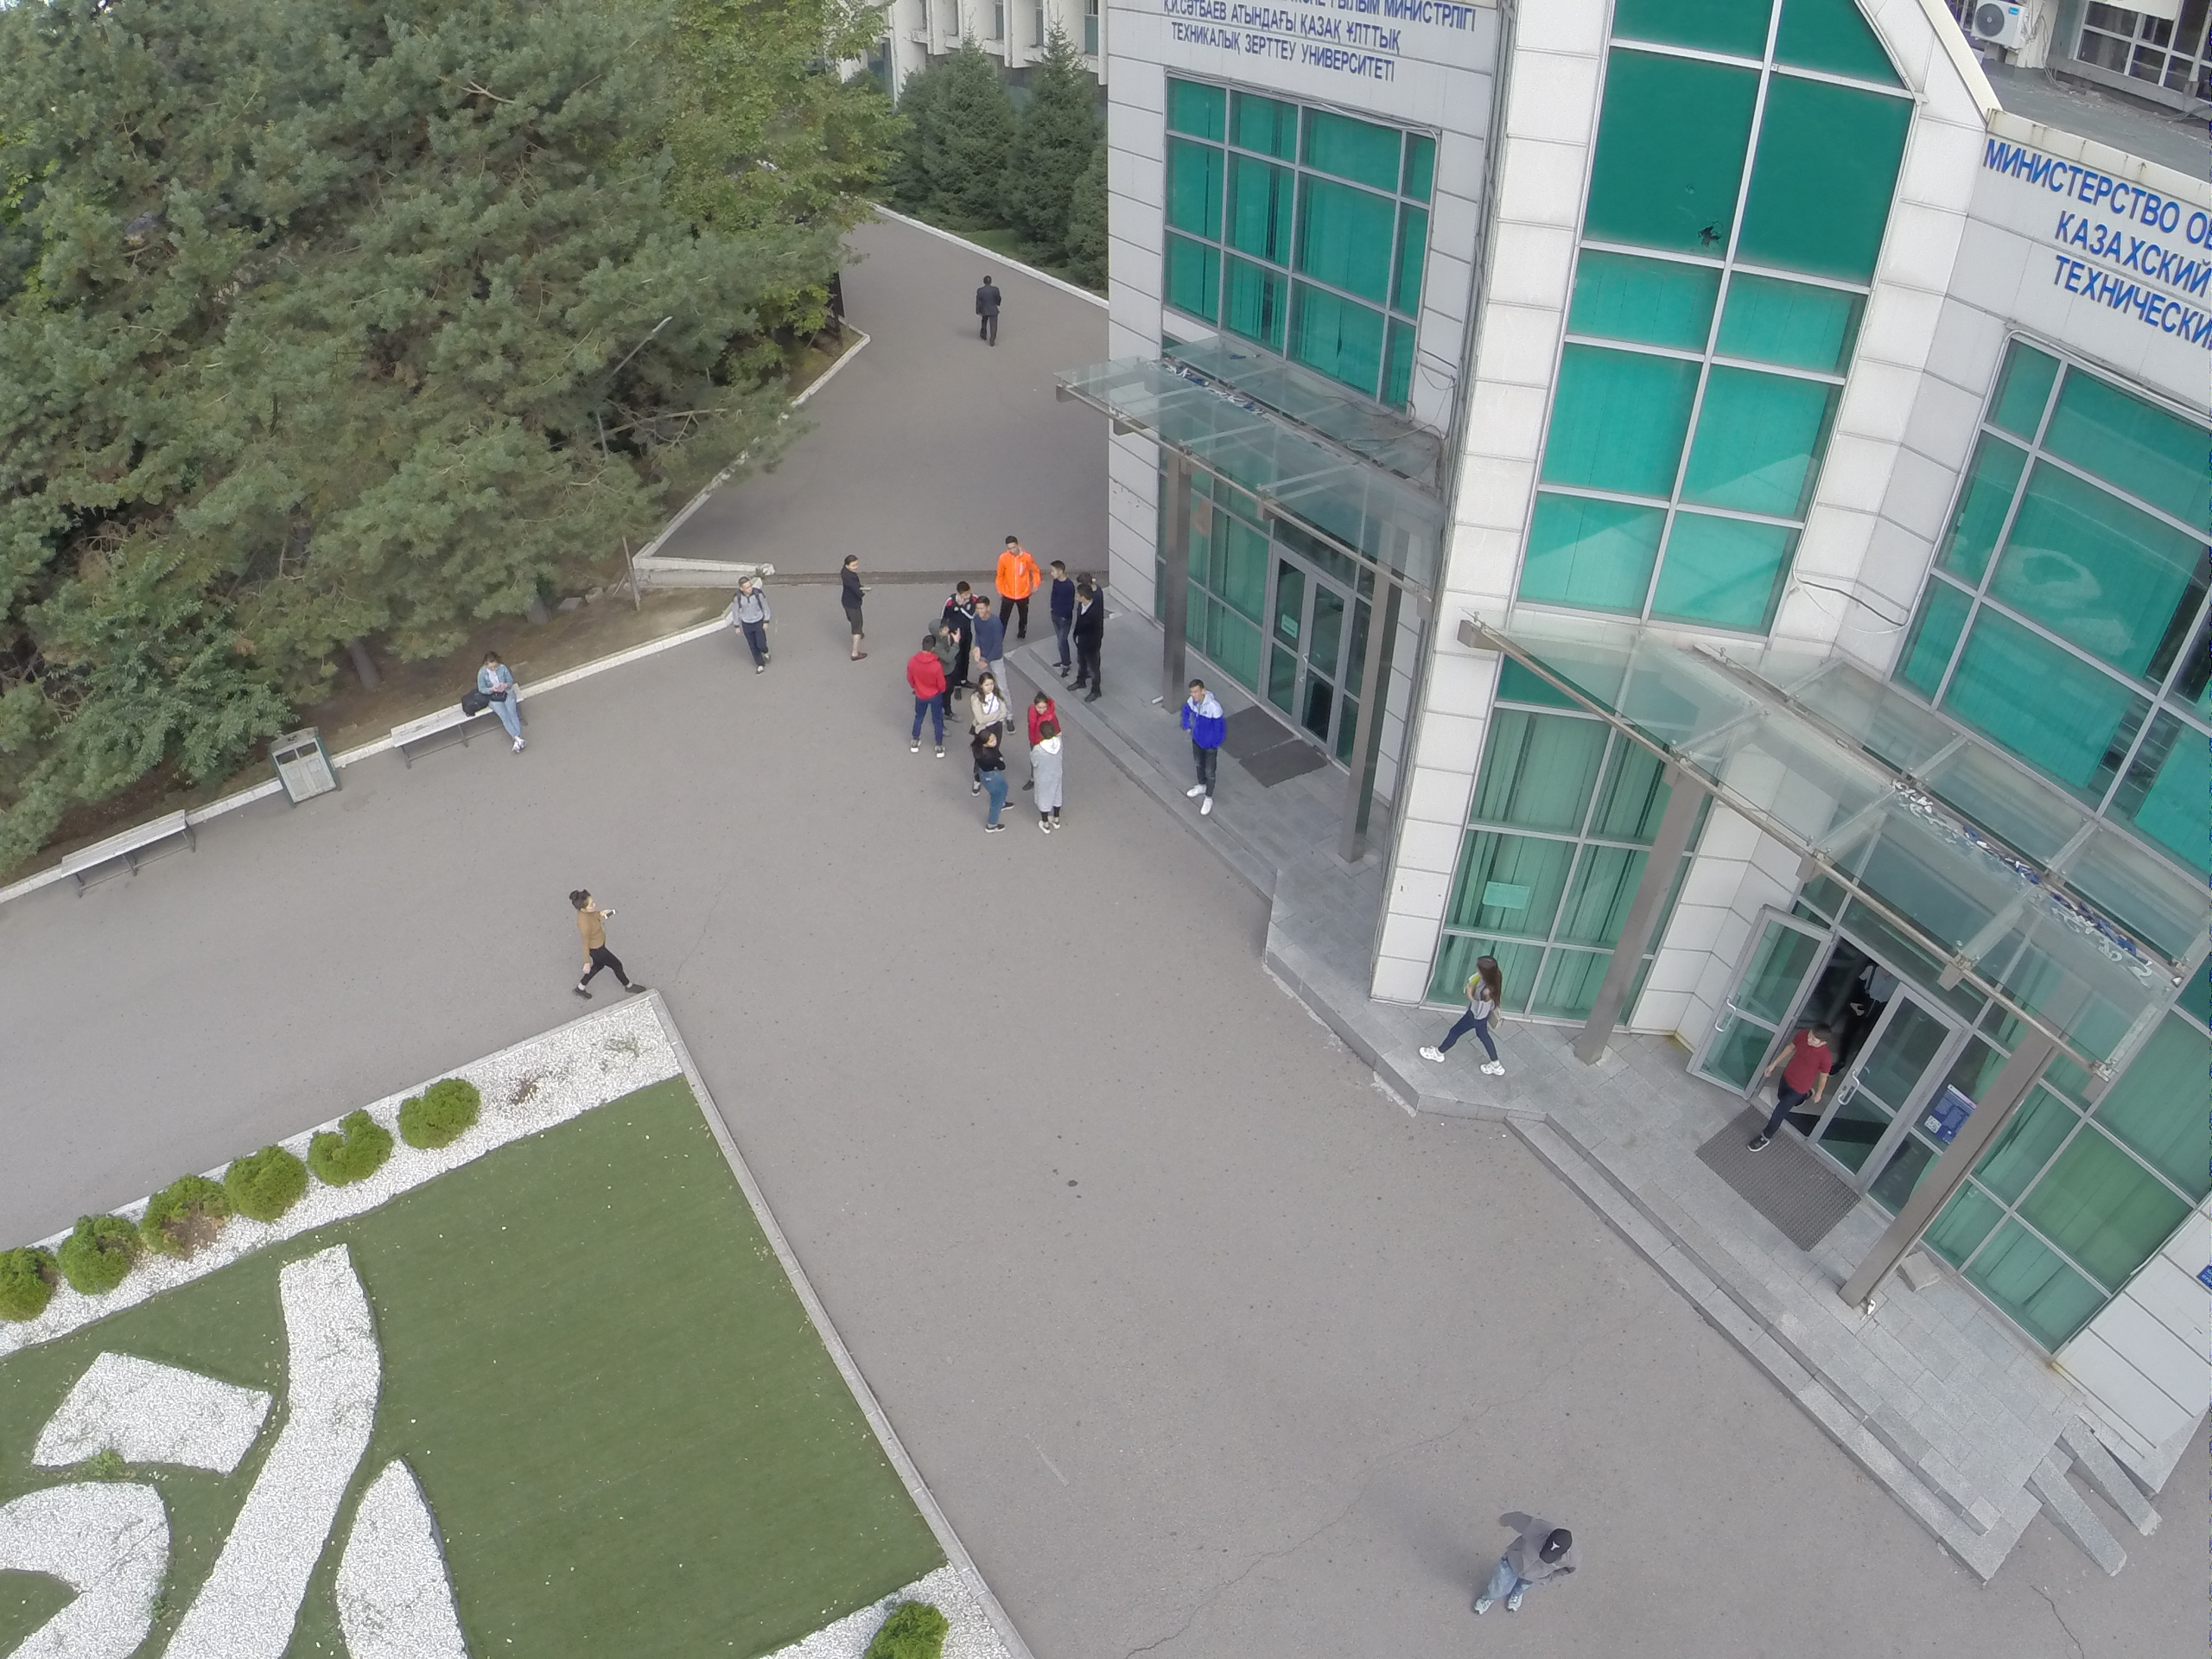person: (1742, 1020, 1834, 1155), (1415, 952, 1508, 1077), (1474, 1508, 1573, 1619), (550, 886, 645, 1001), (1179, 678, 1226, 813), (475, 650, 526, 753), (993, 534, 1038, 640), (908, 634, 946, 757), (835, 554, 874, 667), (1072, 585, 1110, 704), (732, 575, 773, 674), (974, 734, 1013, 836), (1033, 721, 1066, 836), (1044, 560, 1073, 677), (968, 598, 1009, 670), (973, 275, 1001, 347), (943, 581, 971, 628), (975, 674, 1001, 720)
